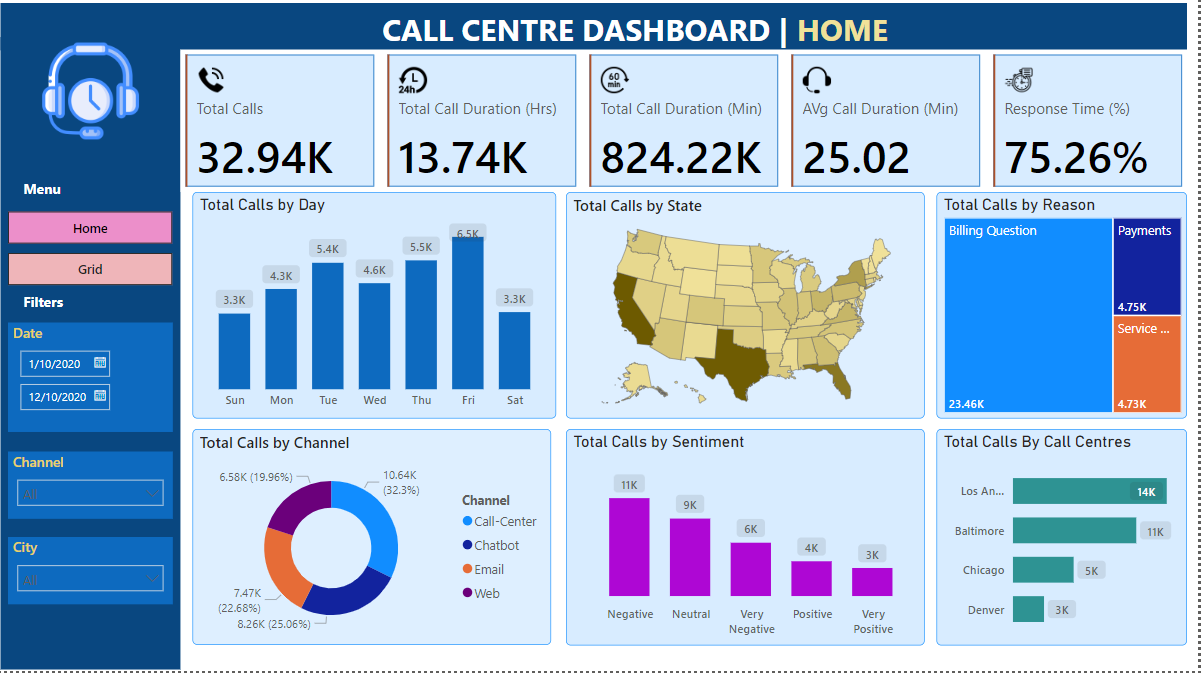

Layout of this report page (visuals, bound fields, positions):
{"tool":"powerbi","page":{"name":"Home","canvas":[1280,720],"ordinal":0},"visuals":[{"type":"shape","box":[11.1,12.7,1257.2,50],"z":0},{"type":"shape","box":[10.6,50,190.9,669.7],"z":1000},{"type":"cardVisual","fields":{"Data":["Call Center_Call Center (1).Total Calls","Call Center_Call Center (1).Total Call Duration (Hrs)","Call Center_Call Center (1).Total Call Duration (Min)","Call Center_Call Center (1).AVg Call Duration (Min)","Call Center_Call Center (1).Response Time (%)"]},"box":[201.9,62,1066.5,151],"z":2000},{"type":"textbox","box":[201.9,12.7,963.2,260.7],"z":3000},{"type":"columnChart","fields":{"Category":["Date Table.Day"],"Y":["Call Center_Call Center (1).Total Calls"]},"box":[214.6,213,385,240],"z":4000},{"type":"shapeMap","fields":{"Category":["Call Center_Call Center (1).State"],"Value":["Call Center_Call Center (1).Total Calls"]},"box":[610.3,213,379.9,240],"z":5000},{"type":"treemap","fields":{"Group":["Call Center_Call Center (1).Reason"],"Values":["Call Center_Call Center (1).Total Calls"]},"box":[1002.9,213,265.4,240],"z":6000},{"type":"donutChart","fields":{"Category":["Call Center_Call Center (1).Channel"],"Y":["Call Center_Call Center (1).Total Calls"]},"box":[214.6,464.1,379.9,228.9],"z":7000},{"type":"columnChart","fields":{"Category":["Call Center_Call Center (1).Sentiment"],"Y":["Call Center_Call Center (1).Total Calls"]},"box":[610,464,380,229],"z":8000},{"type":"barChart","title":"Total Calls By Call Centres ","fields":{"Category":["Call Center_Call Center (1).Call-Centres City"],"Y":["Call Center_Call Center (1).Total Calls"]},"box":[1003,464,265,229],"z":9000},{"type":"slicer","title":"Date","fields":{"Values":["Date Table.Date"]},"box":[19.1,351.3,174.8,116],"z":10000},{"type":"slicer","title":"Channel","fields":{"Values":["Call Center_Call Center (1).Channel"]},"box":[19.1,487.9,174.8,71.5],"z":11000},{"type":"slicer","title":"City","fields":{"Values":["Call Center_Call Center (1).City"]},"box":[19.1,578.5,174.8,71.5],"z":12000},{"type":"pageNavigator","box":[19.1,233.6,174.8,79.5],"z":13000},{"type":"image","box":[49.3,49.3,114.4,112.8],"z":14000},{"type":"textbox","box":[30.2,193.9,63.6,38.1],"z":15000},{"type":"textbox","box":[30.2,313.1,76.3,38.1],"z":16000}]}

Visuals, with their boxes in screenshot pixels (x1, y1, x2, y2), scaled from the page's 1280x720 canvas onto the 1201x673 screenshot:
shape: box=[10, 12, 1190, 59]
shape: box=[10, 47, 189, 672]
cardVisual - Call Center_Call Center (1).Total Calls x Call Center_Call Center (1).Total Call Duration (Hrs): box=[189, 58, 1190, 199]
textbox: box=[189, 12, 1093, 256]
columnChart - Date Table.Day x Call Center_Call Center (1).Total Calls: box=[201, 199, 563, 423]
shapeMap - Call Center_Call Center (1).State x Call Center_Call Center (1).Total Calls: box=[573, 199, 929, 423]
treemap - Call Center_Call Center (1).Reason x Call Center_Call Center (1).Total Calls: box=[941, 199, 1190, 423]
donutChart - Call Center_Call Center (1).Channel x Call Center_Call Center (1).Total Calls: box=[201, 434, 558, 648]
columnChart - Call Center_Call Center (1).Sentiment x Call Center_Call Center (1).Total Calls: box=[572, 434, 929, 648]
"Total Calls By Call Centres " barChart: box=[941, 434, 1190, 648]
"Date" slicer: box=[18, 328, 182, 437]
"Channel" slicer: box=[18, 456, 182, 523]
"City" slicer: box=[18, 541, 182, 608]
pageNavigator: box=[18, 218, 182, 293]
image: box=[46, 46, 154, 152]
textbox: box=[28, 181, 88, 217]
textbox: box=[28, 293, 100, 328]
